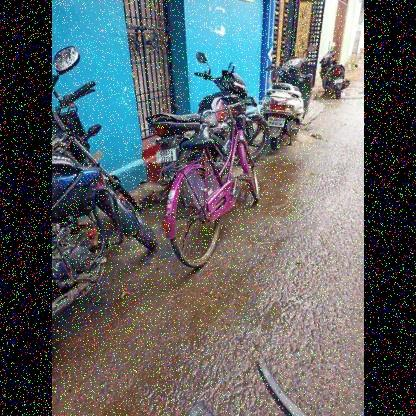Bicycle: (151, 89, 275, 283)
